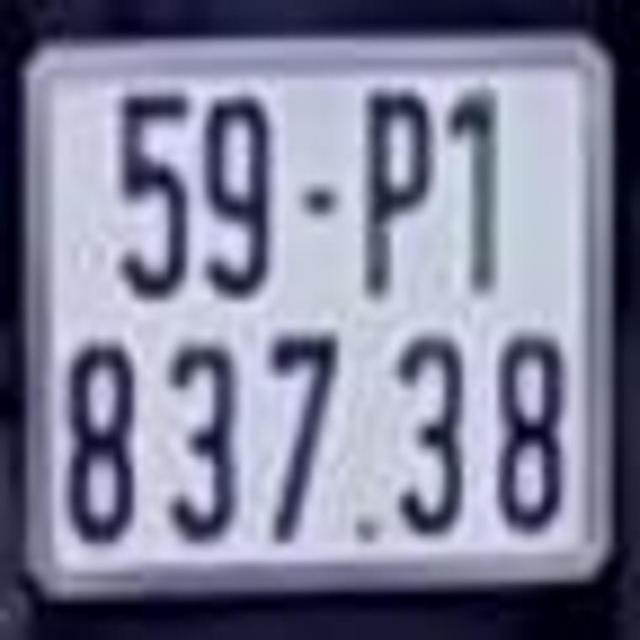1: (453, 88, 506, 294)
3: (168, 337, 242, 545), (397, 338, 468, 540)
5: (124, 94, 194, 300)
7: (268, 334, 335, 542)
8: (66, 335, 140, 544), (496, 322, 565, 537)
9: (204, 95, 274, 305)
P: (364, 85, 439, 296)
